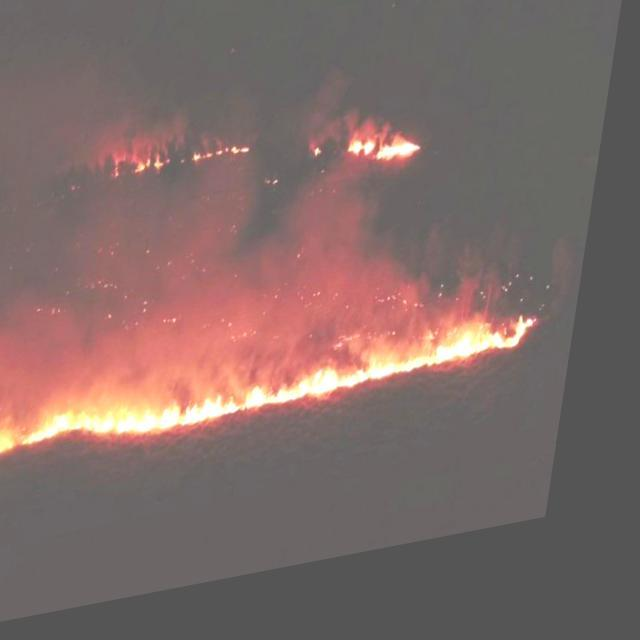Fire: (0, 332, 557, 483), (352, 144, 432, 190), (118, 149, 179, 187), (198, 142, 258, 174), (318, 160, 330, 172)
